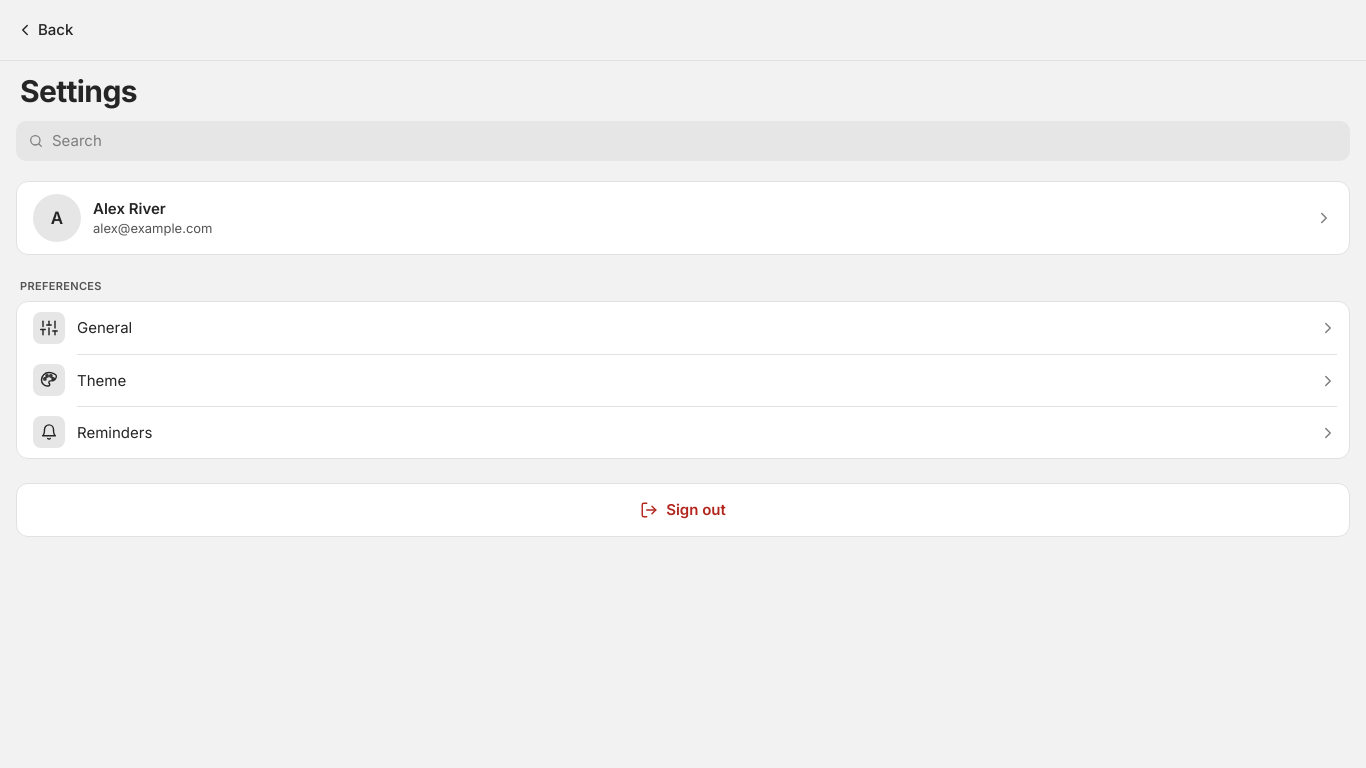
Scenario: Settings on phones (Part D) › PR #153: the name saves only at 3 to 30 characters, and says why otherwise
The width and height of the screenshot is (1366, 768).
Click the button "A Alex River alex@example.com" at (57, 218), box top-left (16, 181), bottom-right (1350, 255)
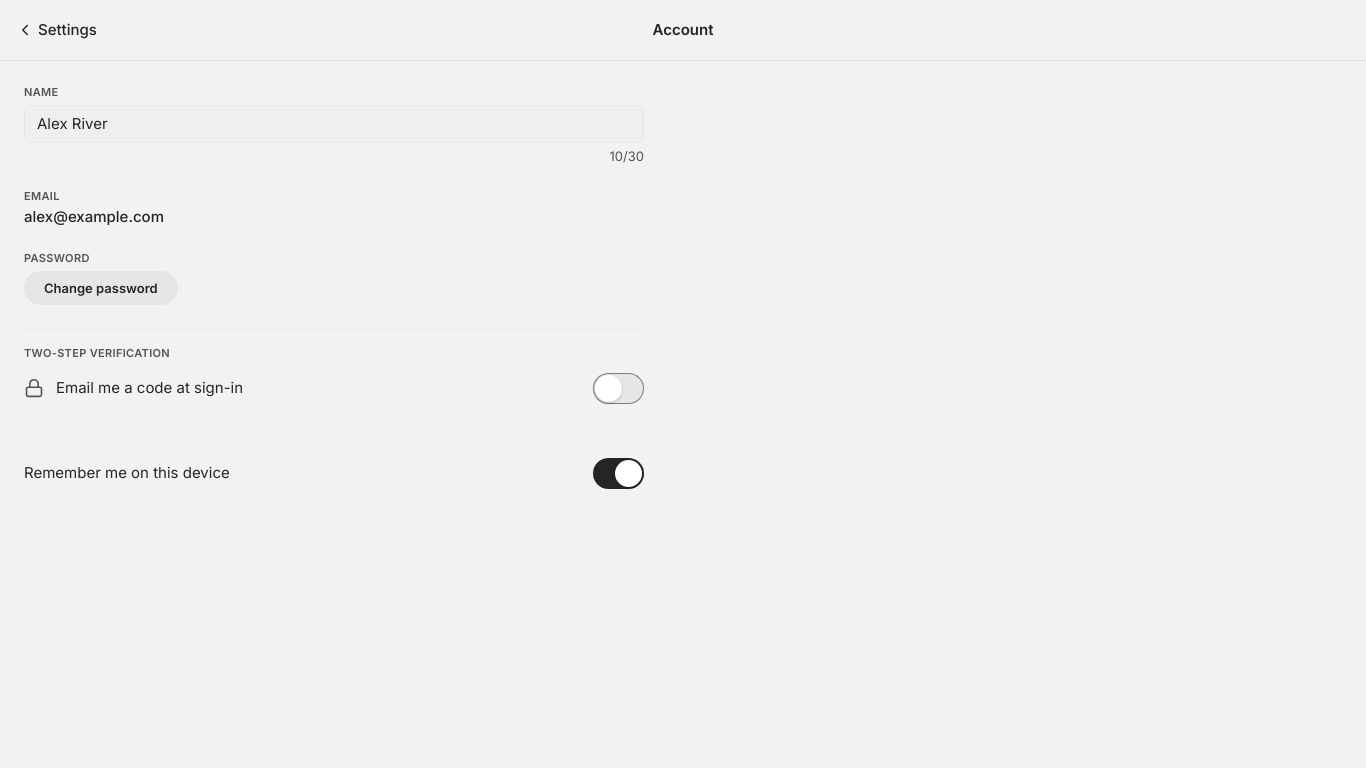
Replace the text in the field showing "Alex River" with "Al" at (334, 124), box top-left (24, 105), bottom-right (644, 143)
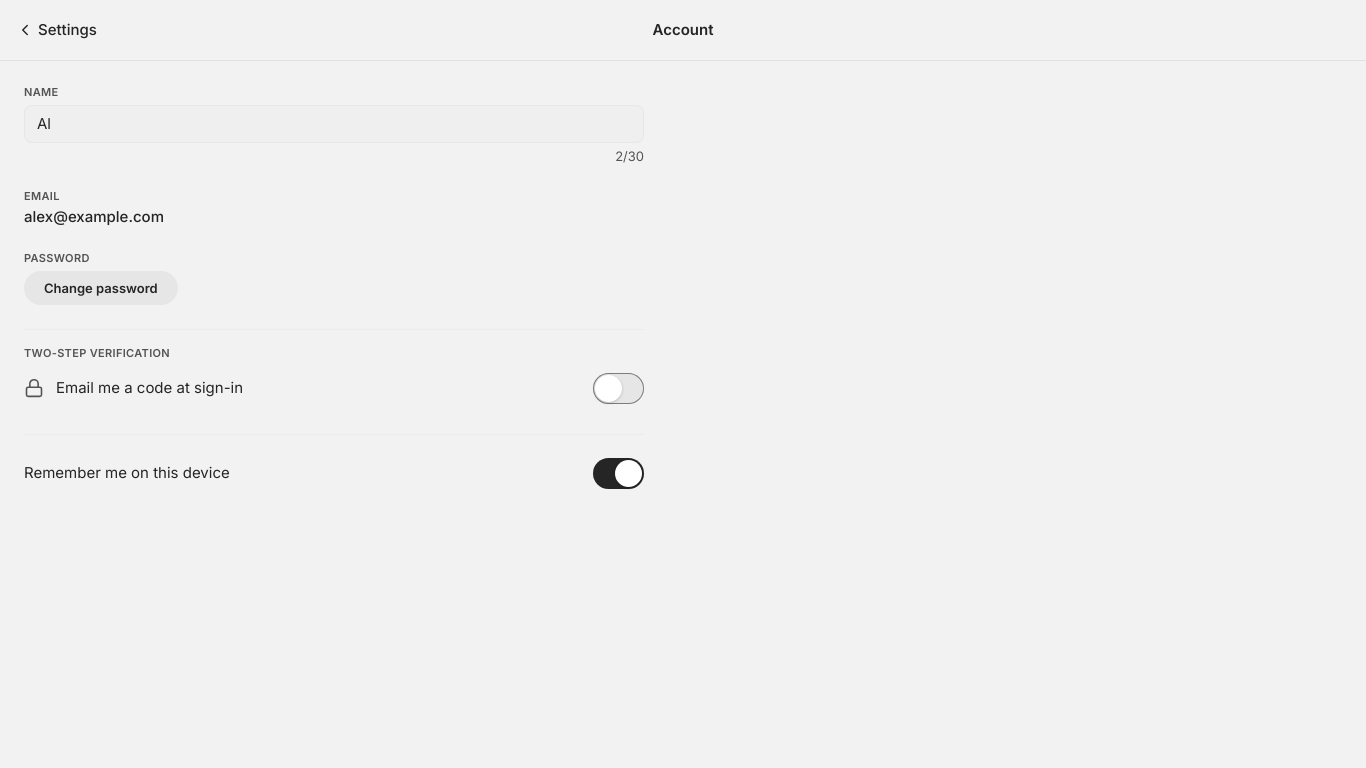
Leave the field showing "Alex River", box top-left (24, 105), bottom-right (644, 143)
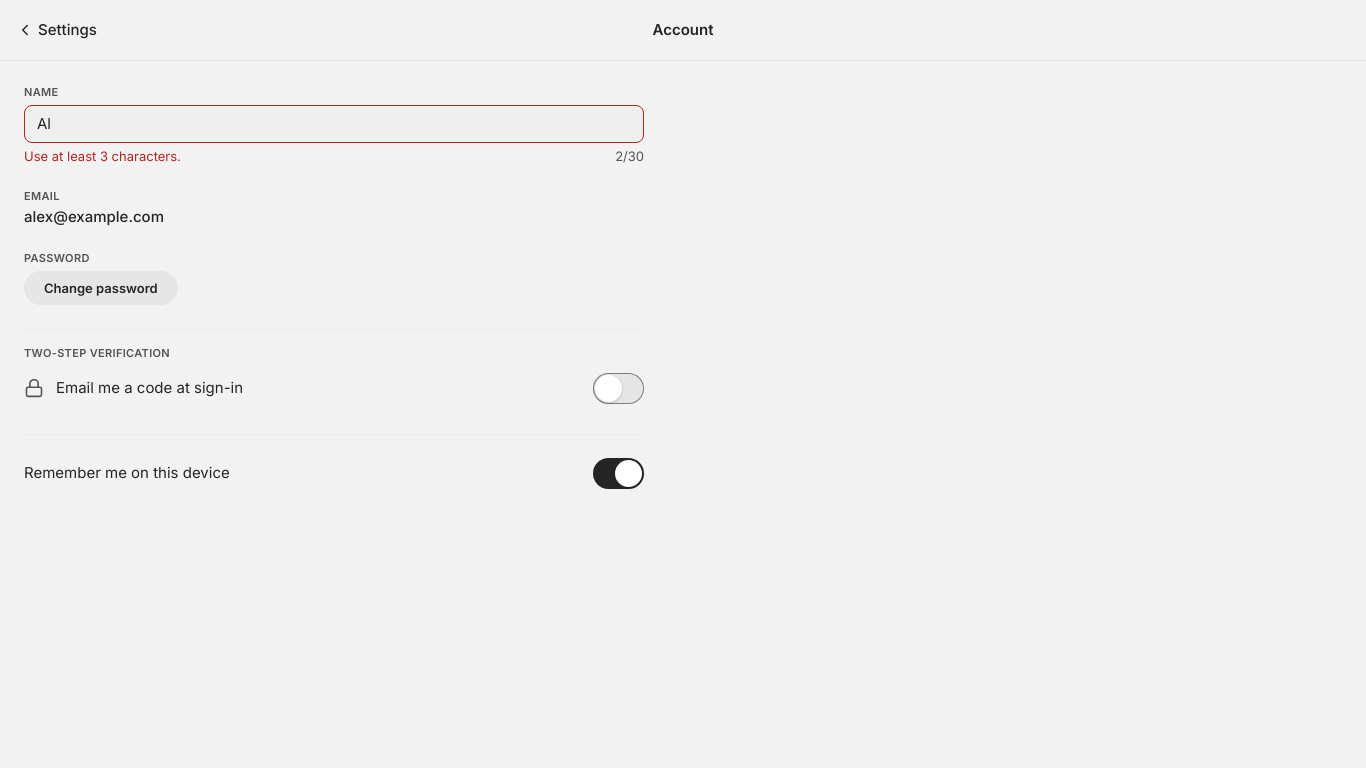
Expected: the message reads "Use at least 3 characters.", top-left (24, 148), bottom-right (181, 164)
Replace the text in the field showing "Alex River" with "  Alex Rivers  " at (334, 124), box top-left (24, 105), bottom-right (644, 143)
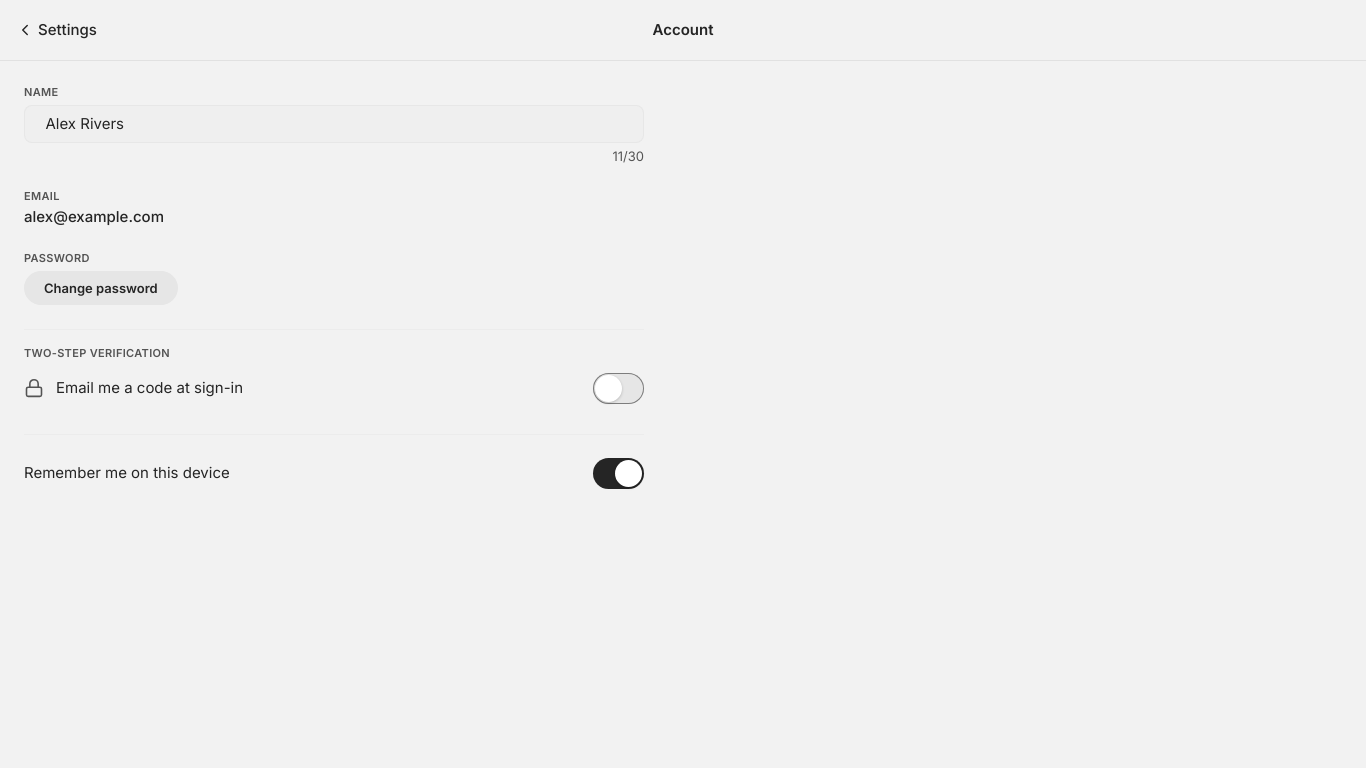
Expected: the message "Use at least 3 characters." is gone
